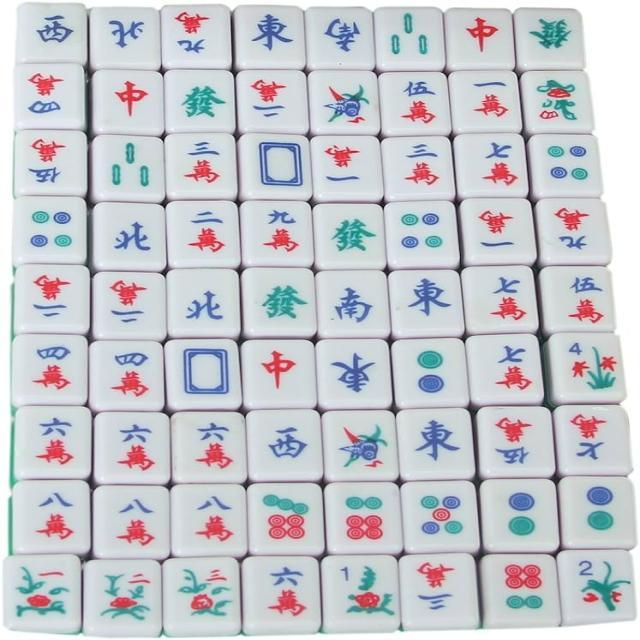bf1: (320, 555, 402, 632)
bf2: (559, 551, 637, 625)
bf4: (548, 331, 626, 401)
bs1: (0, 554, 80, 632)
bs2: (83, 560, 161, 634)
bs3: (163, 560, 241, 636)
bs4: (522, 72, 592, 132)
hdg: (244, 268, 315, 337), (164, 70, 234, 132), (318, 205, 384, 269), (517, 10, 587, 68)
hdr: (244, 338, 316, 406), (95, 72, 163, 134), (449, 9, 515, 68)
hdw: (169, 340, 243, 410), (242, 134, 311, 199)
hwe: (400, 408, 474, 478), (391, 270, 463, 337), (320, 339, 388, 406), (235, 6, 304, 69)
hwn: (94, 203, 168, 273), (166, 268, 236, 338), (90, 8, 160, 68)
hws: (320, 272, 388, 338), (308, 8, 374, 68)
hww: (248, 411, 322, 479), (16, 3, 86, 63)
sb1: (328, 411, 397, 478), (311, 71, 379, 131)
sb3: (92, 136, 163, 203), (377, 8, 442, 70)
sc1: (462, 199, 535, 263), (314, 140, 380, 200), (452, 74, 520, 132)
sc2: (14, 265, 90, 335), (92, 275, 168, 343), (167, 200, 237, 268), (238, 72, 308, 133)
sc3: (398, 552, 479, 628), (166, 134, 236, 200), (385, 136, 452, 196)
sc4: (13, 334, 88, 404), (90, 342, 164, 412), (14, 66, 84, 130)
sc5: (539, 264, 616, 332), (478, 408, 553, 477), (15, 130, 86, 193), (380, 74, 448, 134)
sc6: (242, 554, 320, 632), (94, 413, 170, 485), (13, 406, 88, 478), (172, 414, 245, 484)
sc7: (464, 266, 540, 336), (467, 333, 542, 402), (560, 408, 632, 476), (458, 135, 524, 195)
sc8: (94, 486, 171, 560), (11, 480, 90, 552), (172, 483, 246, 555)
sc9: (536, 198, 609, 264), (244, 202, 312, 268), (162, 6, 228, 66)
sd2: (482, 482, 556, 553), (563, 478, 635, 550), (396, 338, 469, 408)
sd4: (15, 196, 88, 265), (390, 201, 458, 270), (530, 136, 602, 198)
sd5: (408, 484, 477, 554)
sd6: (486, 556, 560, 626), (330, 484, 398, 552)
sd7: (251, 485, 322, 555)
